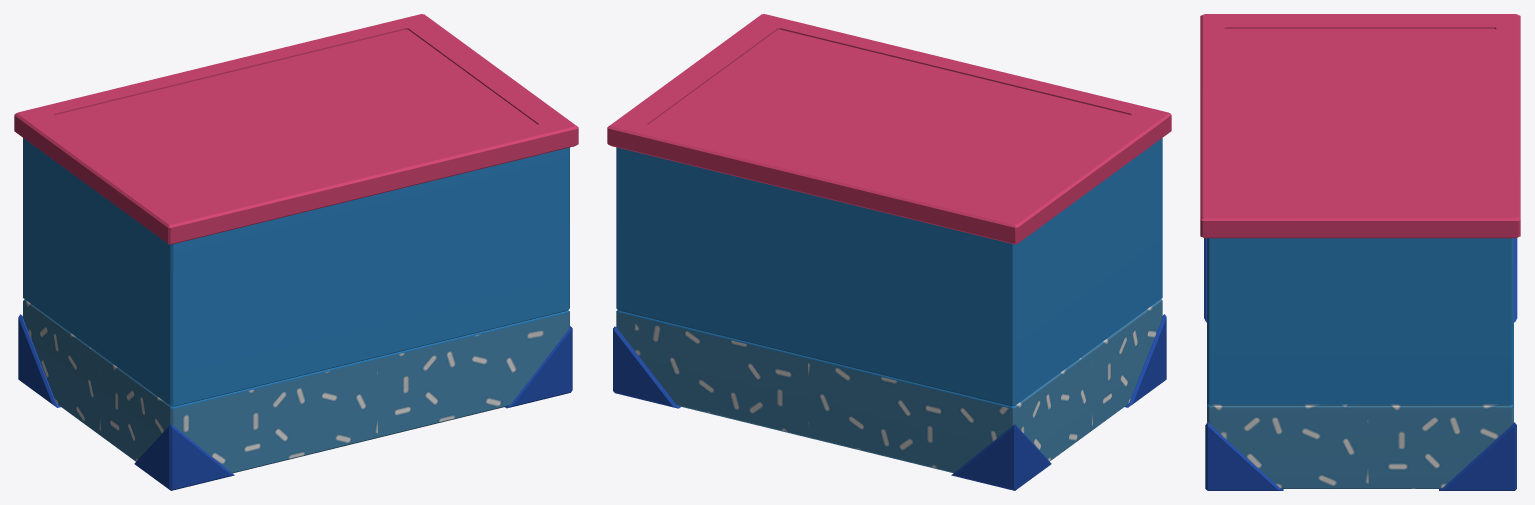
File: PLF0110012.fbx
3 views of the same model, side by side, from view 1: azimuth 30°, elevation 25°; view 2: azimuth 150°, elevation 25°; view 3: azimuth 270°, elevation 25° (orthographic). The views are drawn at different scales.
Visible parts, largest first — view 1: smPLF0110012; view 2: smPLF0110012; view 3: smPLF0110012.
Boxes of the visible parts, x1,y1,x2,y2 form: smPLF0110012: (14, 14, 578, 490); smPLF0110012: (607, 14, 1171, 490); smPLF0110012: (1200, 14, 1520, 490).
Size of the model in its own units: 161 by 100 by 106.
Materials: 1 (1 with a texture image).
